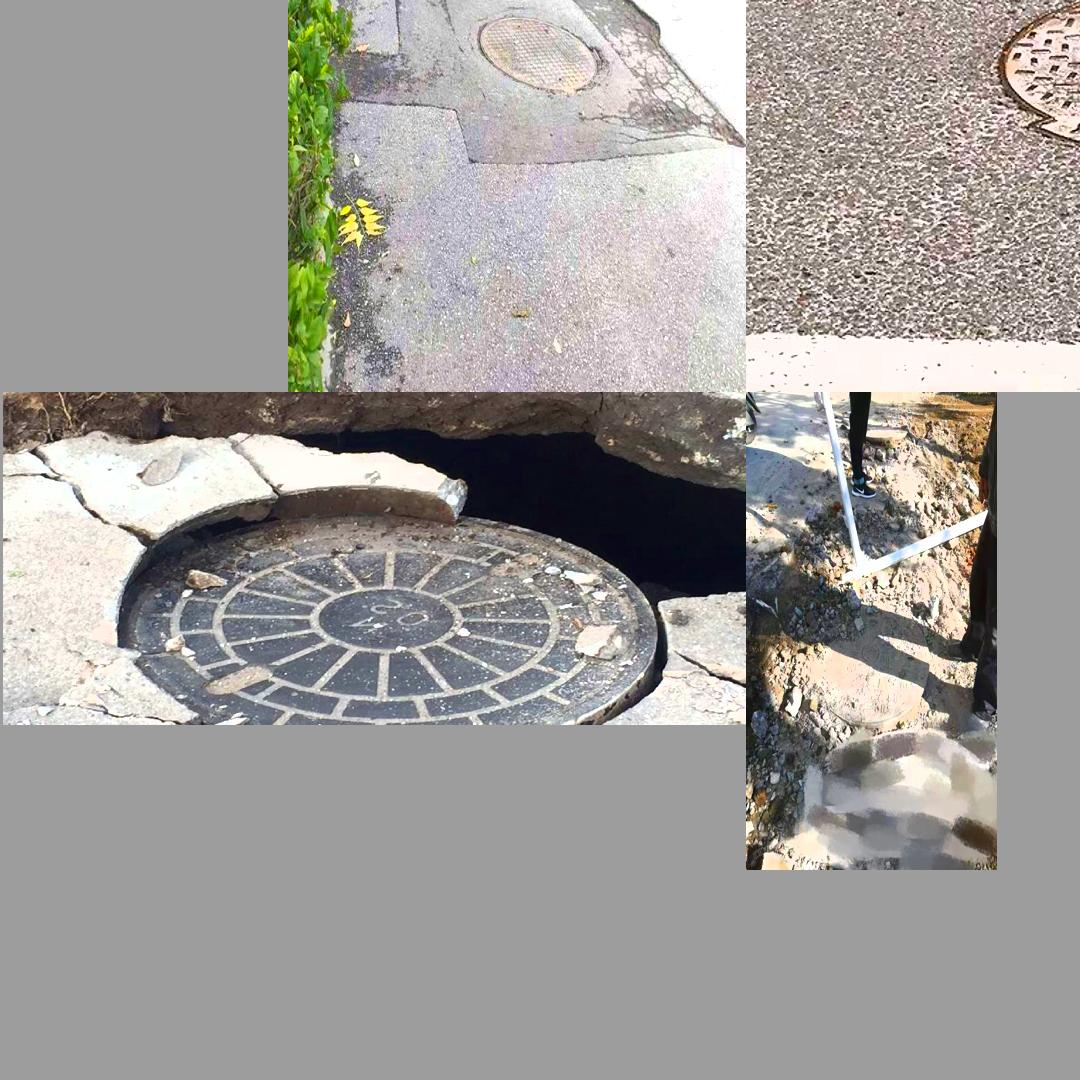circle: (11, 405, 733, 721), (399, 0, 688, 158), (787, 600, 945, 751), (988, 0, 1080, 185)
